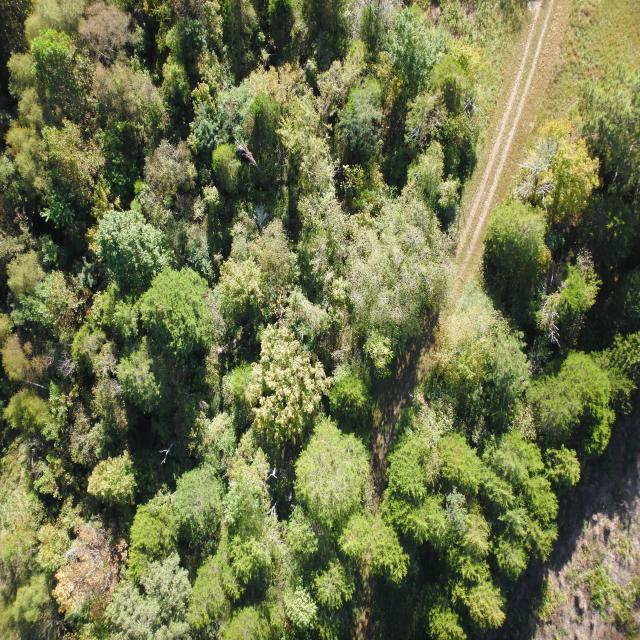Area of Interest: (10, 5, 634, 619)
